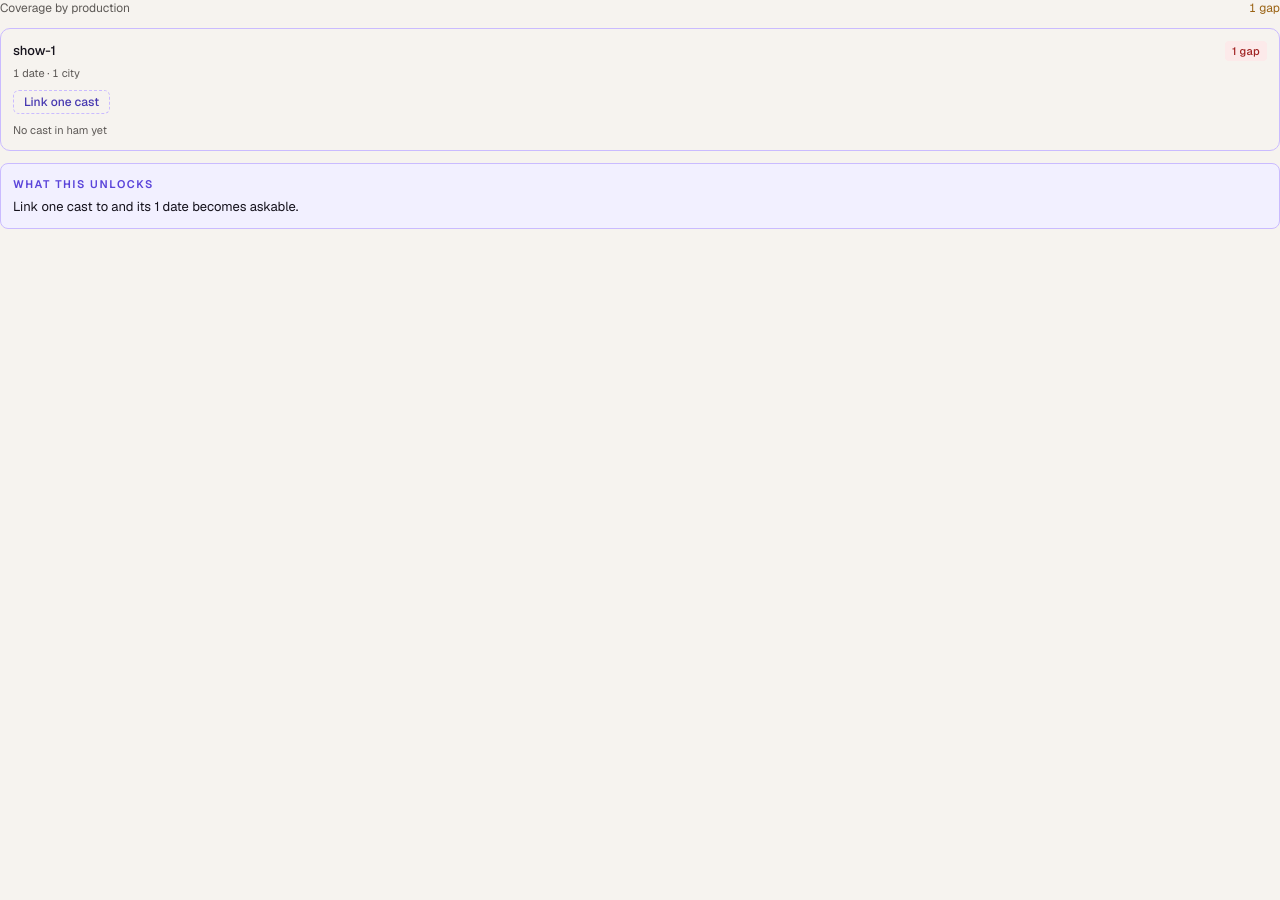
Test case: EligibilityPanelBody › a first-group cast with no members › will not offer an empty cast as the fix
The width and height of the screenshot is (1280, 900).
Click the button "Link one cast". click: (62, 102)
box: [13,90,110,114]
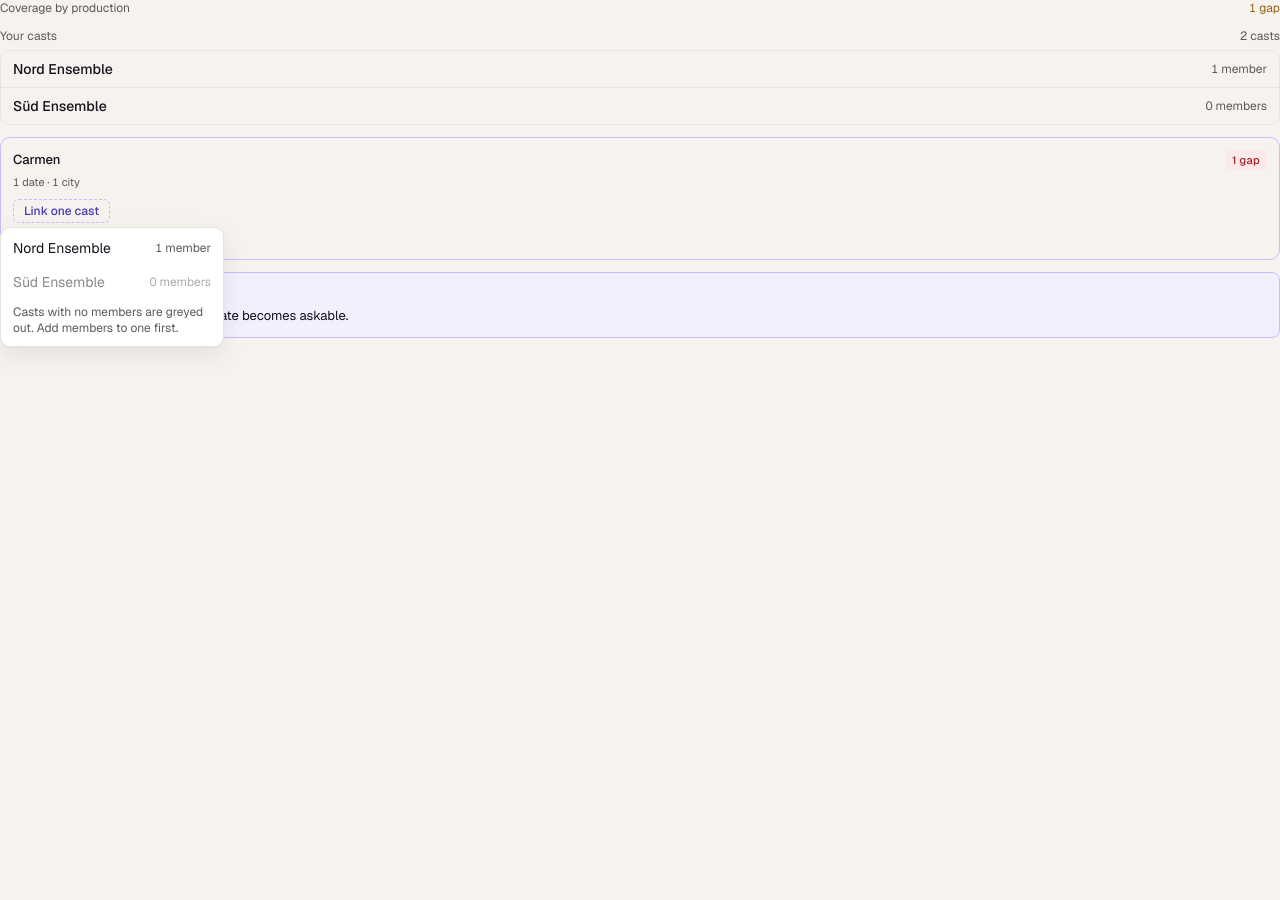
expect the button "Süd Ensemble 0 members" is disabled: met, box [5,266,219,298]
expect the button "Nord Ensemble 1 member" is enabled: met, box [5,232,219,264]
expect the text "Casts with no members are greyed out" is shown: met, box [13,304,203,336]
